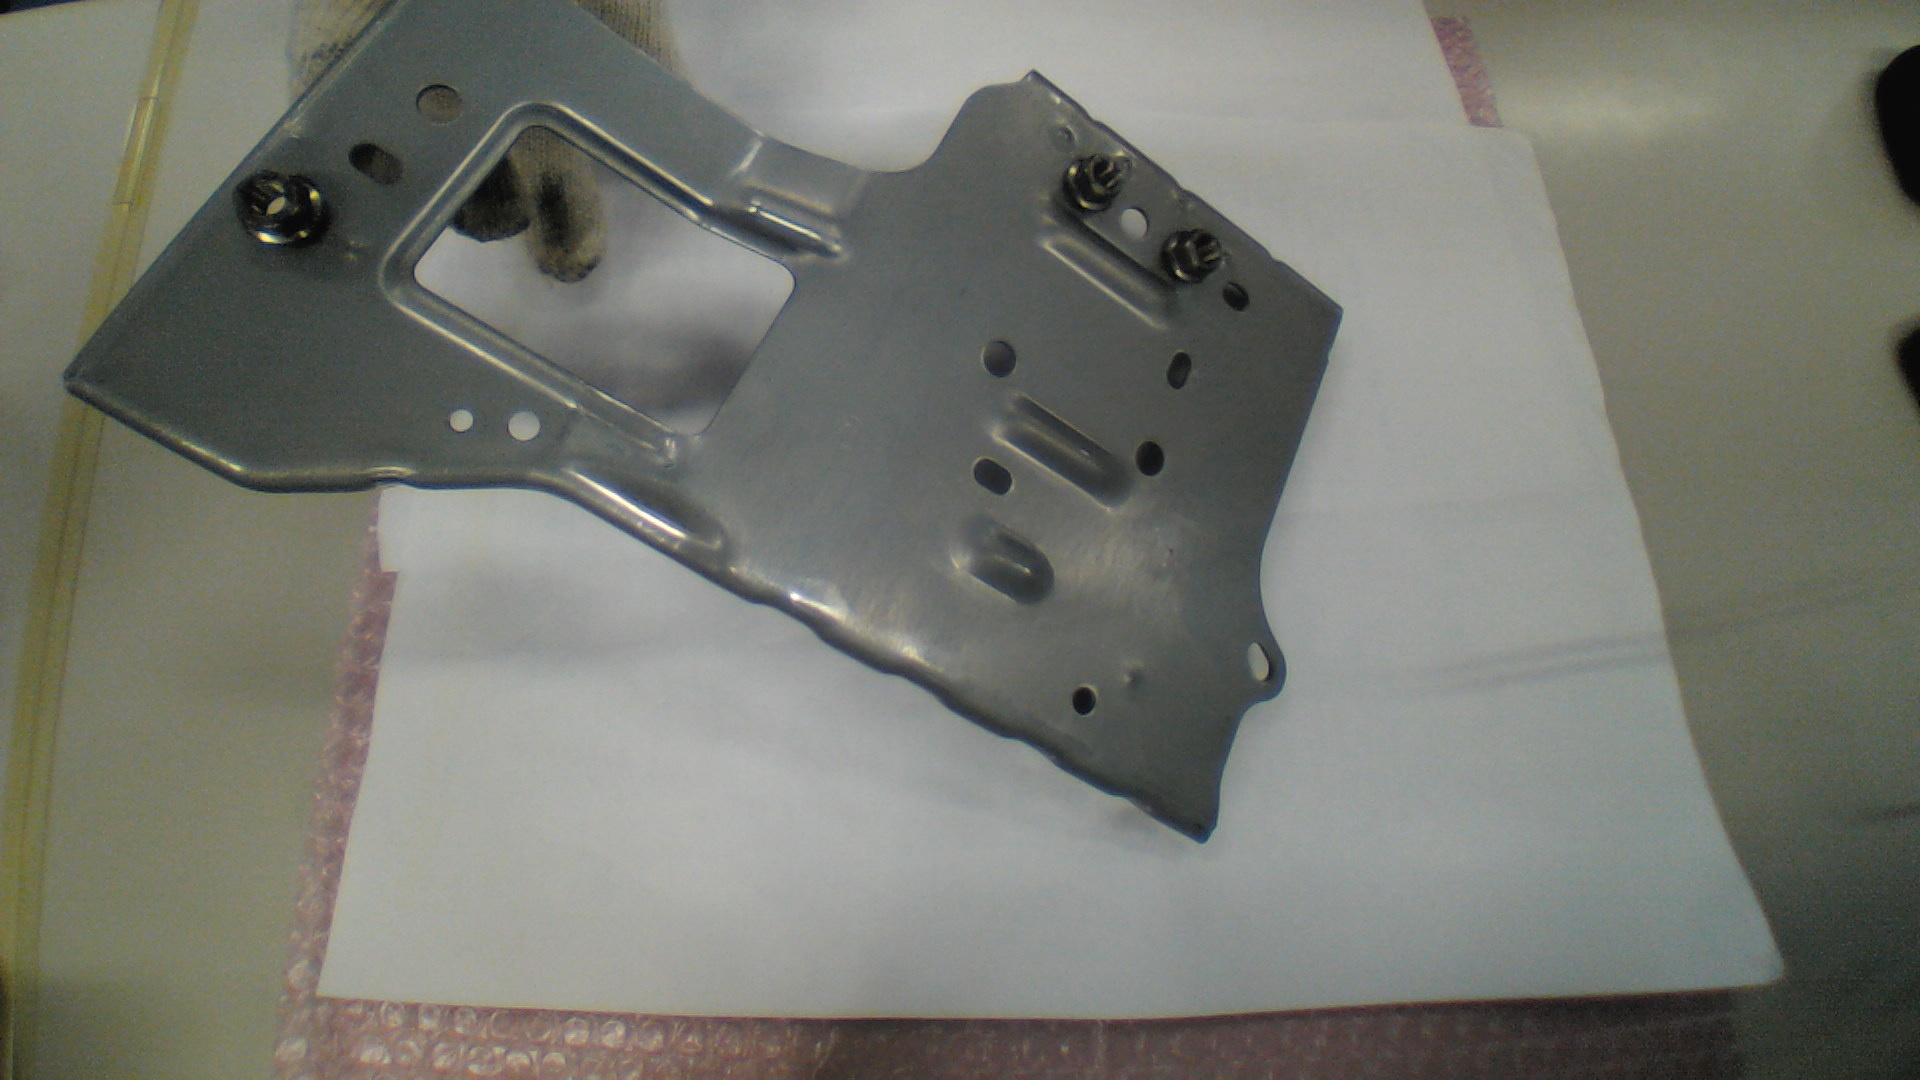dog: (231, 171, 328, 251), (1063, 150, 1130, 215), (1159, 225, 1222, 286)
